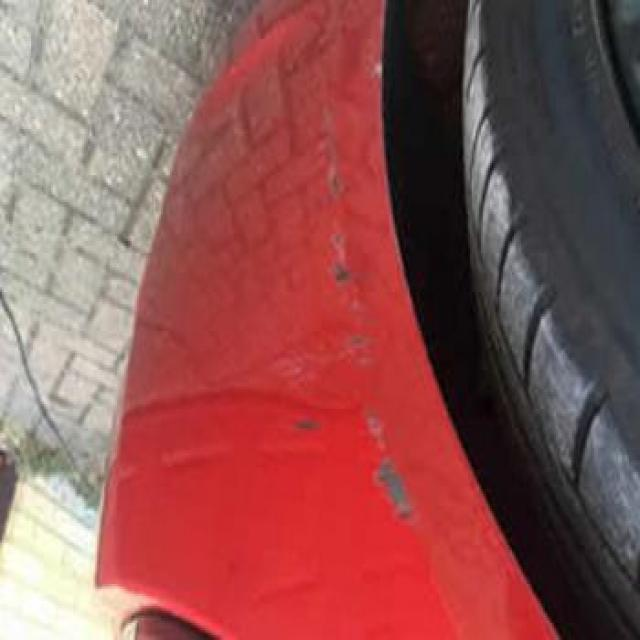scratch: (251, 64, 437, 539)
